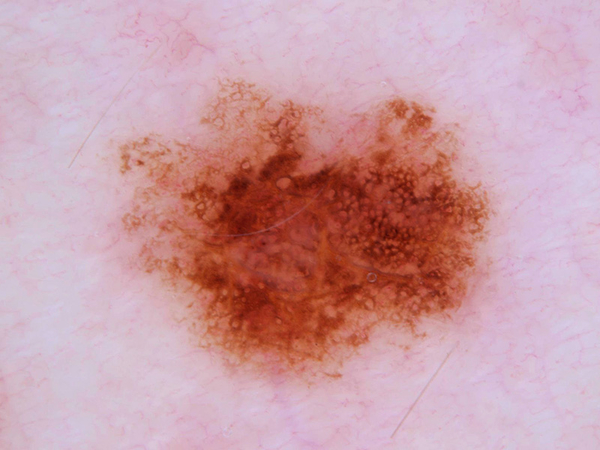Detected Lesion: (118, 73, 501, 384)
